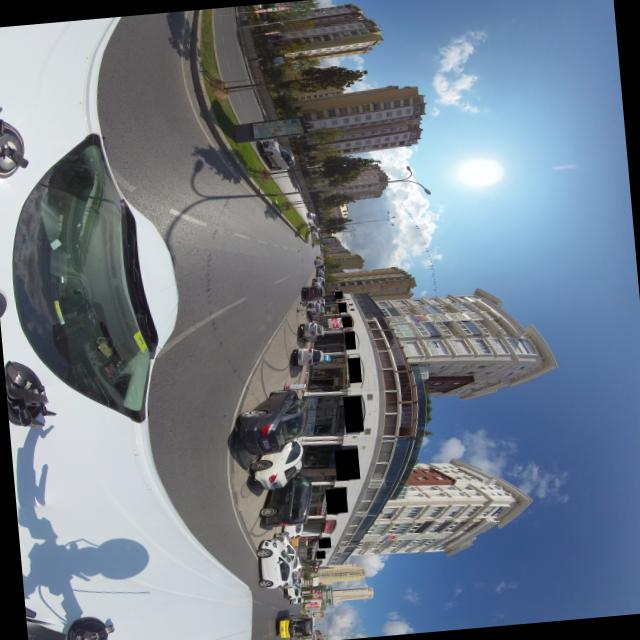SignStore: (335, 449, 356, 481), (345, 396, 360, 433), (326, 488, 345, 514), (346, 357, 361, 383), (343, 331, 355, 349), (317, 538, 329, 548), (341, 316, 351, 327), (337, 302, 346, 312), (315, 550, 323, 559), (333, 291, 342, 299)
